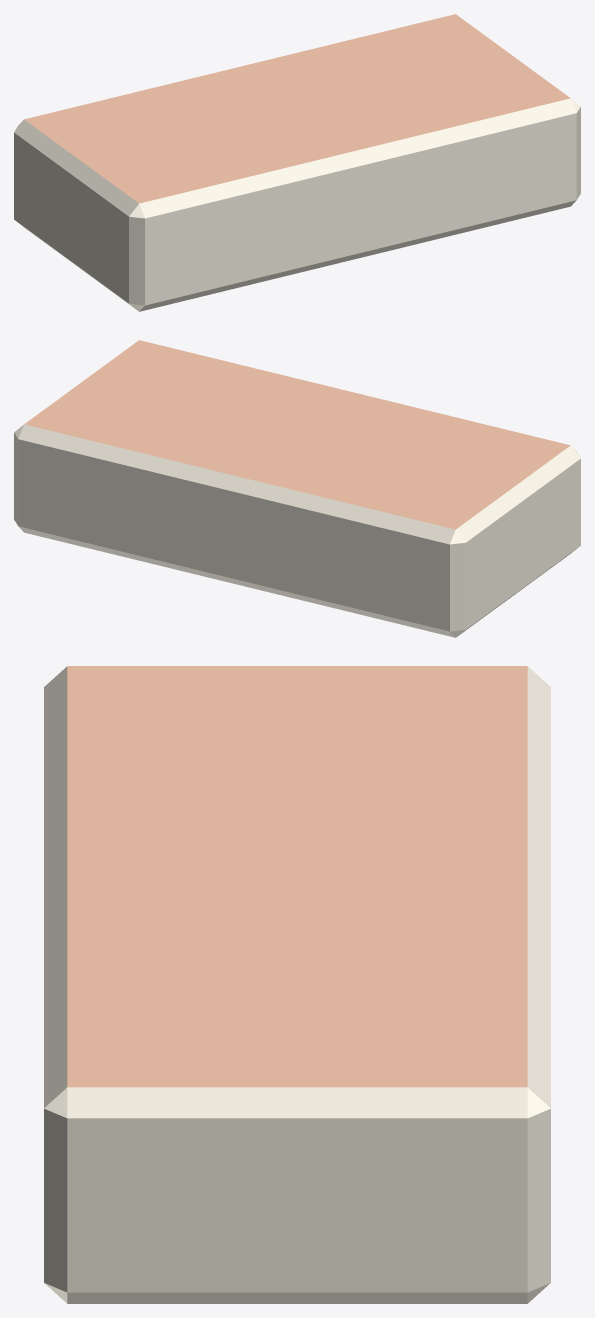
The model's file is R4B_Plate1x2_LOD1.fbx.
The picture shows the model from 3 angles, top to bottom: view 1: azimuth 30°, elevation 25°; view 2: azimuth 150°, elevation 25°; view 3: azimuth 270°, elevation 25°; orthographic projection. The views are drawn at different scales.
Visible parts, largest first — view 1: R4B_Plate1x2_LOD1; view 2: R4B_Plate1x2_LOD1; view 3: R4B_Plate1x2_LOD1.
Boxes of the visible parts, x1,y1,x2,y2 form: R4B_Plate1x2_LOD1: (14, 14, 580, 311); R4B_Plate1x2_LOD1: (14, 340, 580, 637); R4B_Plate1x2_LOD1: (44, 666, 550, 1303).
Size of the model in its own units: 1.07 by 0.245 by 0.52.
